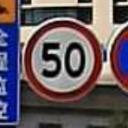speed_limit_50: (25, 21, 102, 101)
